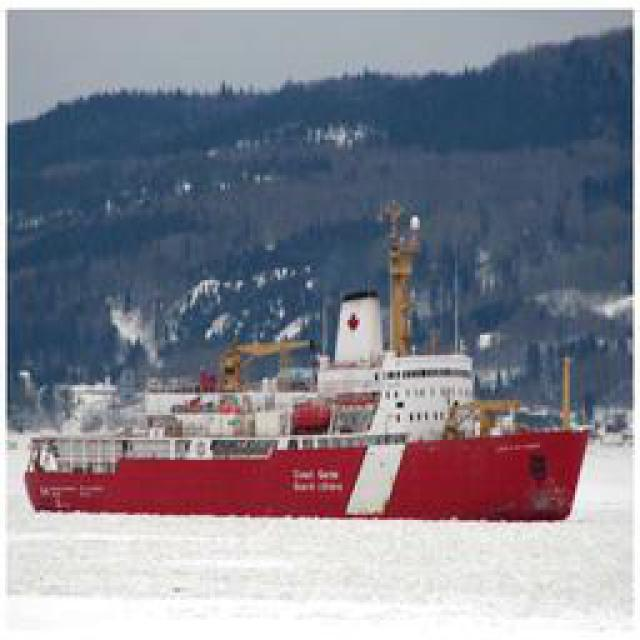Ship: (32, 414, 605, 524)
